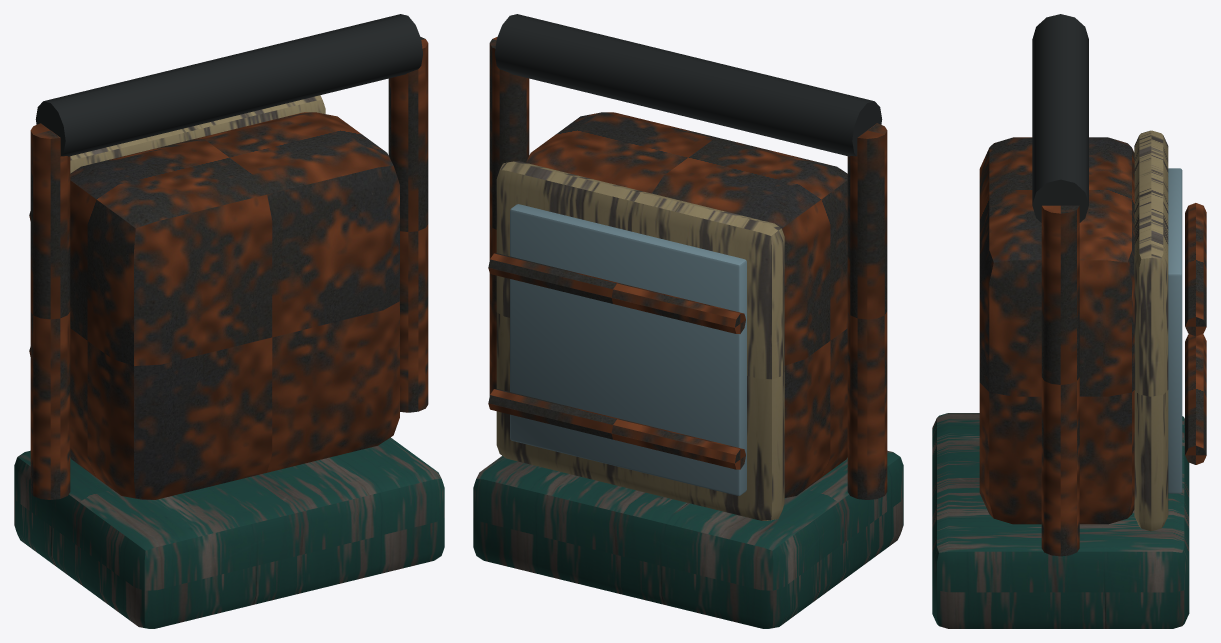
Rendered from SM_PortableWorkLamp_0f11186085.fbx.
3 views of the same model, side by side, from view 1: azimuth 30°, elevation 25°; view 2: azimuth 150°, elevation 25°; view 3: azimuth 270°, elevation 25° (orthographic). The views are drawn at different scales.
Parts seen in each view (by area): view 1: SM_PortableWorkLamp_0f11186085; view 2: SM_PortableWorkLamp_0f11186085; view 3: SM_PortableWorkLamp_0f11186085.
Part boxes in pixels (x1=…): SM_PortableWorkLamp_0f11186085: x1=14, y1=14, x2=444, y2=628; SM_PortableWorkLamp_0f11186085: x1=473, y1=14, x2=903, y2=628; SM_PortableWorkLamp_0f11186085: x1=932, y1=14, x2=1206, y2=628.
Size of what is drawn, in the model's own units: 31.8 by 20.3 by 38.1.
5 materials, 3 textured.
